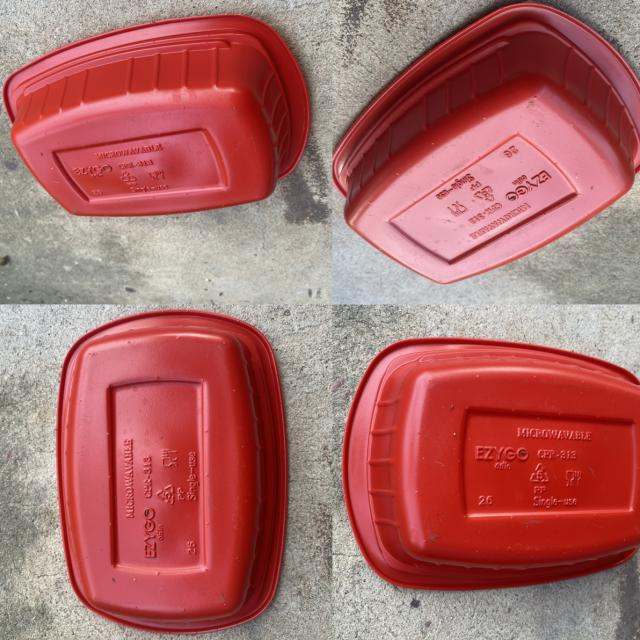plastik: (332, 3, 640, 283), (342, 338, 640, 590), (57, 310, 287, 633), (3, 15, 310, 216)
